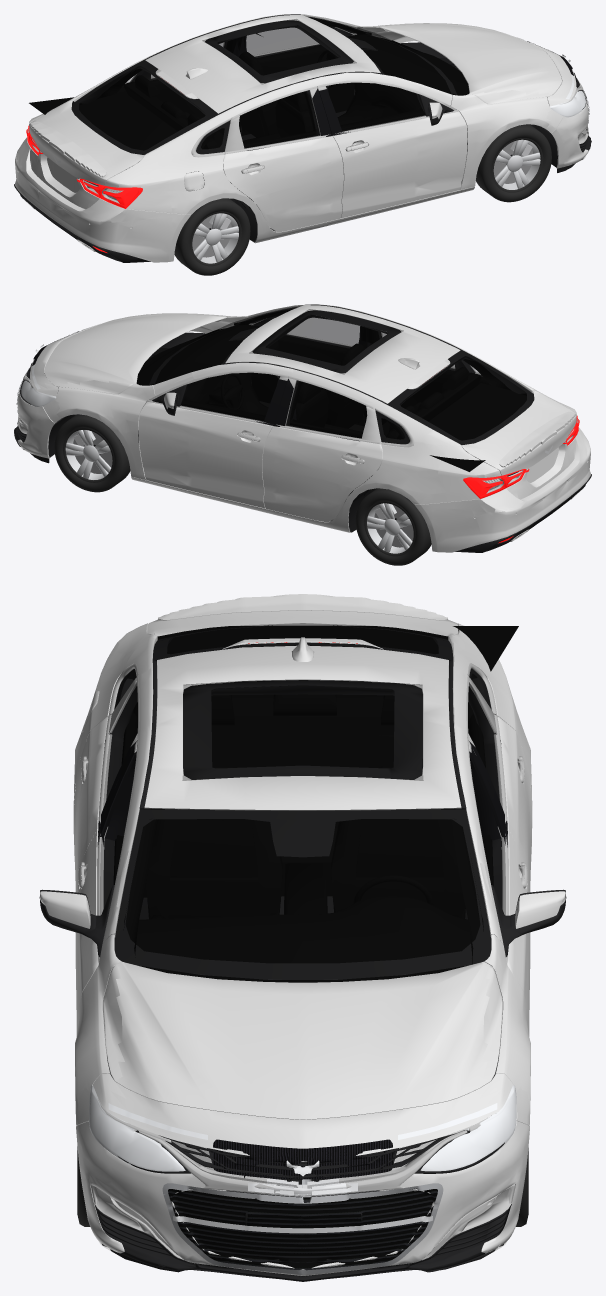
File: toyoda_camri.glb
3 views of the same model, one above another, from view 1: azimuth 30°, elevation 25°; view 2: azimuth 150°, elevation 25°; view 3: azimuth 270°, elevation 25° (orthographic). The views are drawn at different scales.
Parts seen in each view (by area): view 1: liner_trim, part_glass, part_roof, part_fender_fr, part_trunk, part_door_fr, part_hood, part_door_rr, part_quarter_rr, part_rear_bumper, wheel_rr, wheel_fr (+4 smaller); view 2: liner_trim, part_glass, part_roof, part_fender_fl, part_door_fl, part_trunk, part_hood, part_door_rl, part_quarter_rl, part_rear_bumper, wheel_fl, wheel_rl (+4 smaller); view 3: liner_trim, part_glass, part_hood, part_roof, core, part_front_bumper, part_trunk, part_fender_fr, part_fender_fl, headlight_r, headlight_l, part_quarter_rr (+7 smaller).
Part boxes in pixels (bbox=[...]): liner_trim: bbox=[14, 14, 591, 262]; part_glass: bbox=[72, 15, 458, 154]; part_roof: bbox=[72, 14, 419, 155]; part_fender_fr: bbox=[415, 52, 570, 203]; part_trunk: bbox=[15, 97, 162, 222]; part_door_fr: bbox=[324, 120, 420, 225]; part_hood: bbox=[379, 23, 574, 98]; part_door_rr: bbox=[249, 137, 330, 243]; part_quarter_rr: bbox=[65, 151, 256, 222]; part_rear_bumper: bbox=[15, 158, 190, 262]; wheel_rr: bbox=[174, 198, 250, 275]; wheel_fr: bbox=[476, 125, 551, 202]; liner_trim: bbox=[14, 304, 591, 552]; part_glass: bbox=[147, 306, 533, 444]; part_roof: bbox=[192, 304, 532, 445]; part_fender_fl: bbox=[37, 342, 193, 493]; part_door_fl: bbox=[185, 410, 281, 515]; part_trunk: bbox=[444, 388, 590, 512]; part_hood: bbox=[32, 313, 226, 390]; part_door_rl: bbox=[276, 427, 356, 532]; part_quarter_rl: bbox=[349, 441, 505, 512]; part_rear_bumper: bbox=[415, 448, 590, 552]; wheel_fl: bbox=[54, 415, 130, 492]; wheel_rl: bbox=[355, 488, 431, 565]; liner_trim: bbox=[39, 625, 566, 1281]; part_glass: bbox=[100, 623, 505, 980]; part_hood: bbox=[111, 849, 500, 1148]; part_roof: bbox=[116, 635, 486, 877]; core: bbox=[168, 1139, 437, 1270]; part_front_bumper: bbox=[75, 1085, 530, 1275]; part_trunk: bbox=[116, 594, 483, 660]; part_fender_fr: bbox=[75, 850, 165, 1115]; part_fender_fl: bbox=[440, 863, 530, 1115]; headlight_r: bbox=[89, 1085, 207, 1171]; headlight_l: bbox=[398, 1085, 516, 1171]; part_quarter_rr: bbox=[73, 618, 159, 833].
Size of the model in its own units: 4.88 by 1.43 by 2.13.
16 materials, 2 textured.
